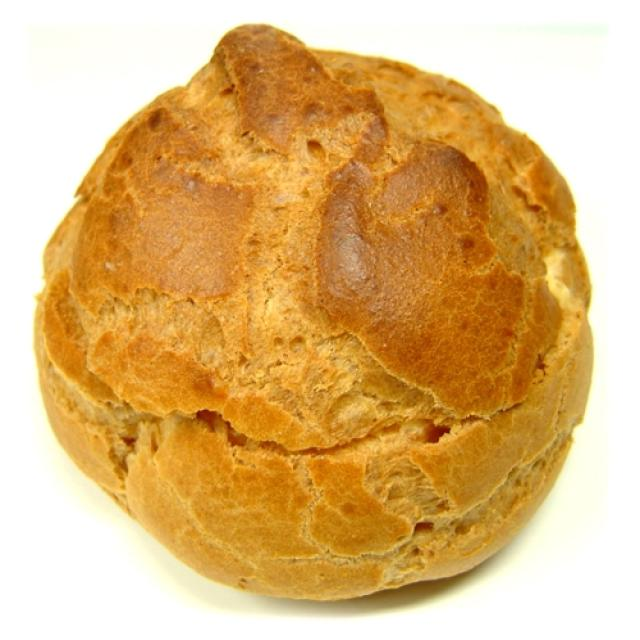炸货点心: (23, 23, 612, 608)
蛋糕甜品: (23, 23, 612, 608)
